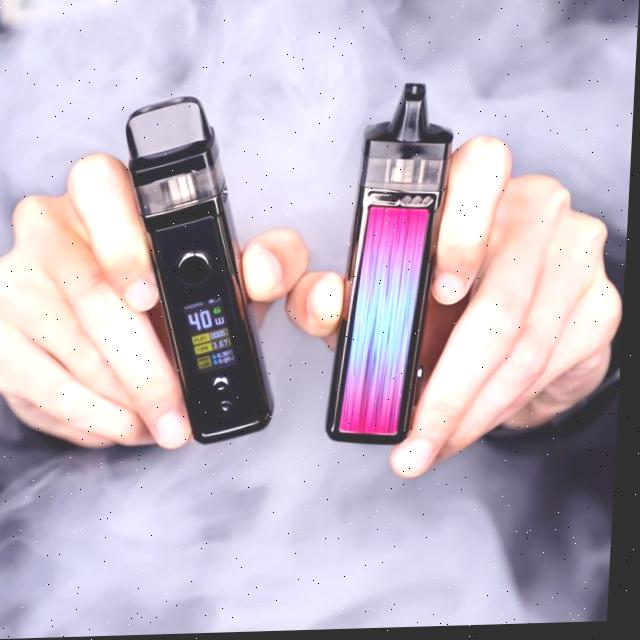vape: (112, 90, 294, 450), (326, 83, 461, 450)
